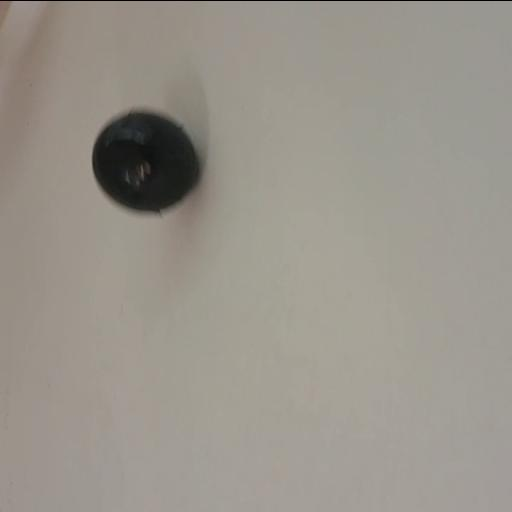dead: (90, 110, 200, 218)
